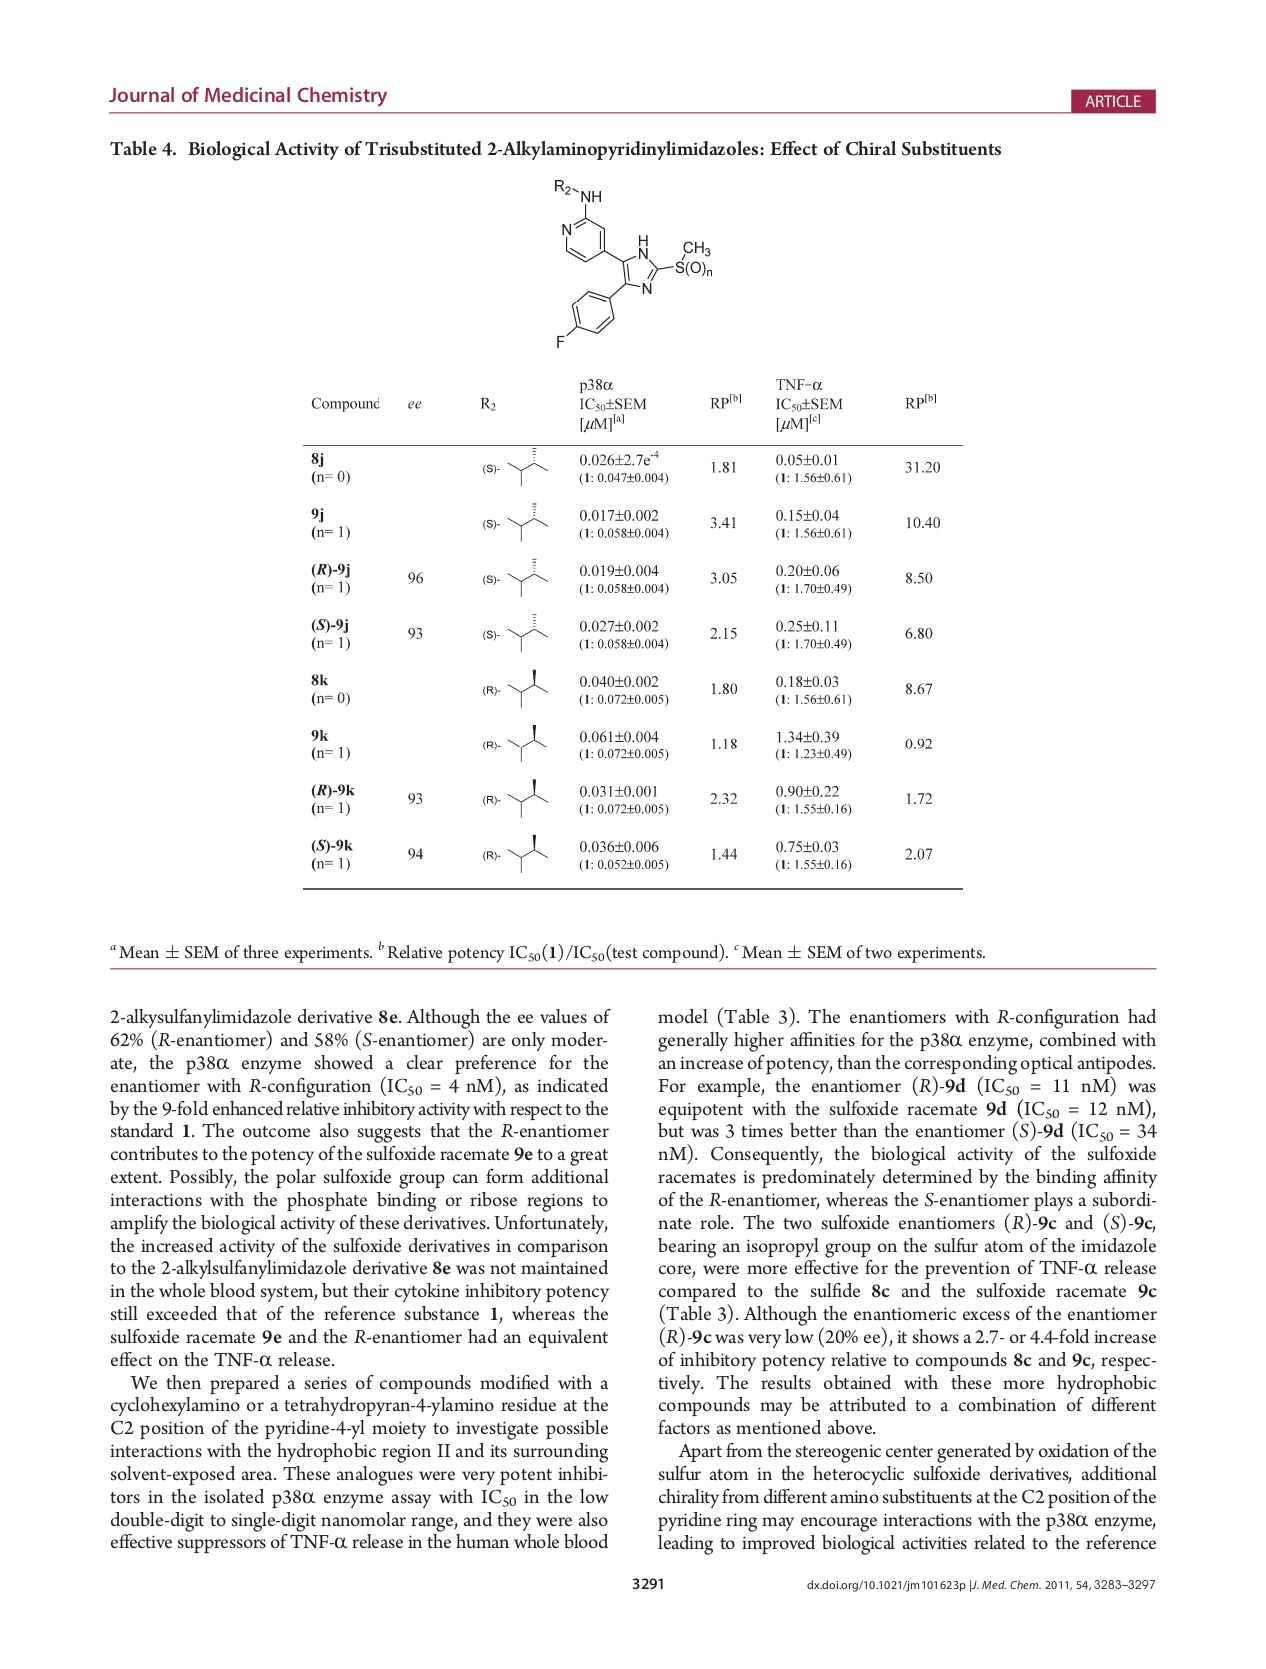exist_molecular: (543, 177, 717, 350), (501, 833, 551, 875), (505, 555, 549, 598), (505, 668, 549, 711), (505, 612, 549, 654), (503, 778, 551, 817), (505, 499, 547, 543), (507, 446, 549, 487), (505, 723, 549, 762)
